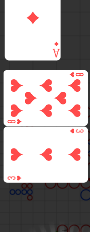10H: (7, 117, 23, 124)
3H: (7, 174, 23, 181)
AD: (52, 40, 61, 58)
